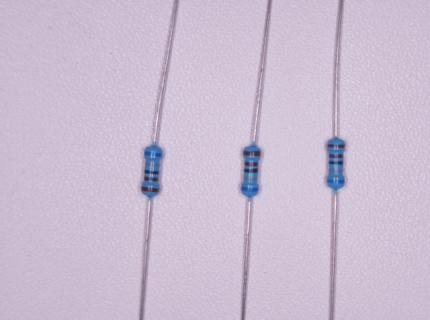Black band: (144, 170, 159, 175), (329, 160, 343, 165), (244, 169, 258, 173)
Blue band: (144, 151, 162, 158), (241, 186, 258, 192), (327, 179, 345, 184)
Brown band: (141, 186, 159, 193), (243, 150, 261, 157), (144, 177, 159, 182), (329, 154, 343, 159), (328, 144, 345, 148), (245, 162, 258, 167)
Grey band: (145, 162, 160, 167), (244, 177, 258, 181), (329, 169, 343, 173)
